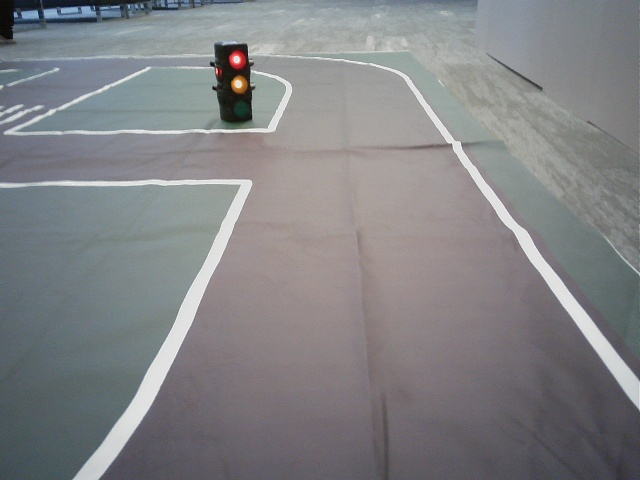red: (224, 44, 252, 120)
